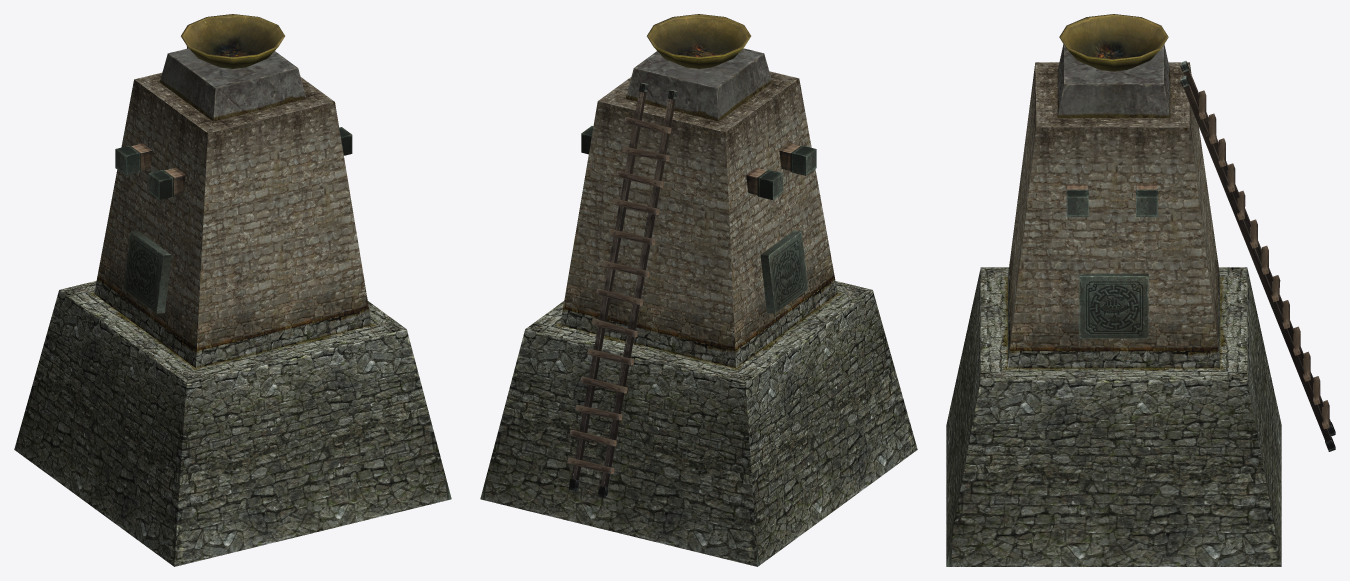
Rendered from fortms_firesignal.glb.
The picture shows the model from 3 angles, left to right: view 1: azimuth 30°, elevation 25°; view 2: azimuth 150°, elevation 25°; view 3: azimuth 270°, elevation 25°; orthographic projection. The views are drawn at different scales.
Visible parts, largest first — view 1: fire_signal; view 2: fire_signal; view 3: fire_signal.
Boxes of the visible parts, x1,y1,x2,y2 form: fire_signal: [14, 14, 451, 566]; fire_signal: [480, 14, 917, 566]; fire_signal: [946, 14, 1335, 566].
Bounding box in the file's own units: 8.94 × 13.5 × 10.37.
Materials: 1 (1 with a texture image).
